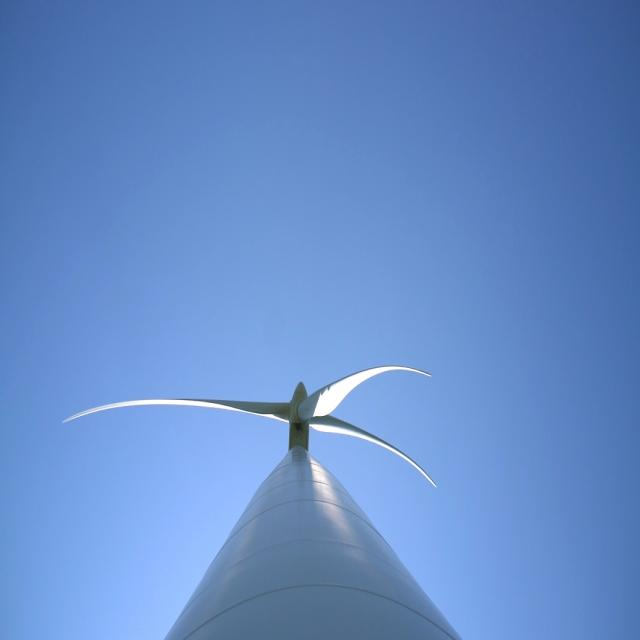blade 1: (34, 368, 286, 432)
blade 2: (310, 359, 487, 407)
blade 3: (362, 431, 449, 489)
